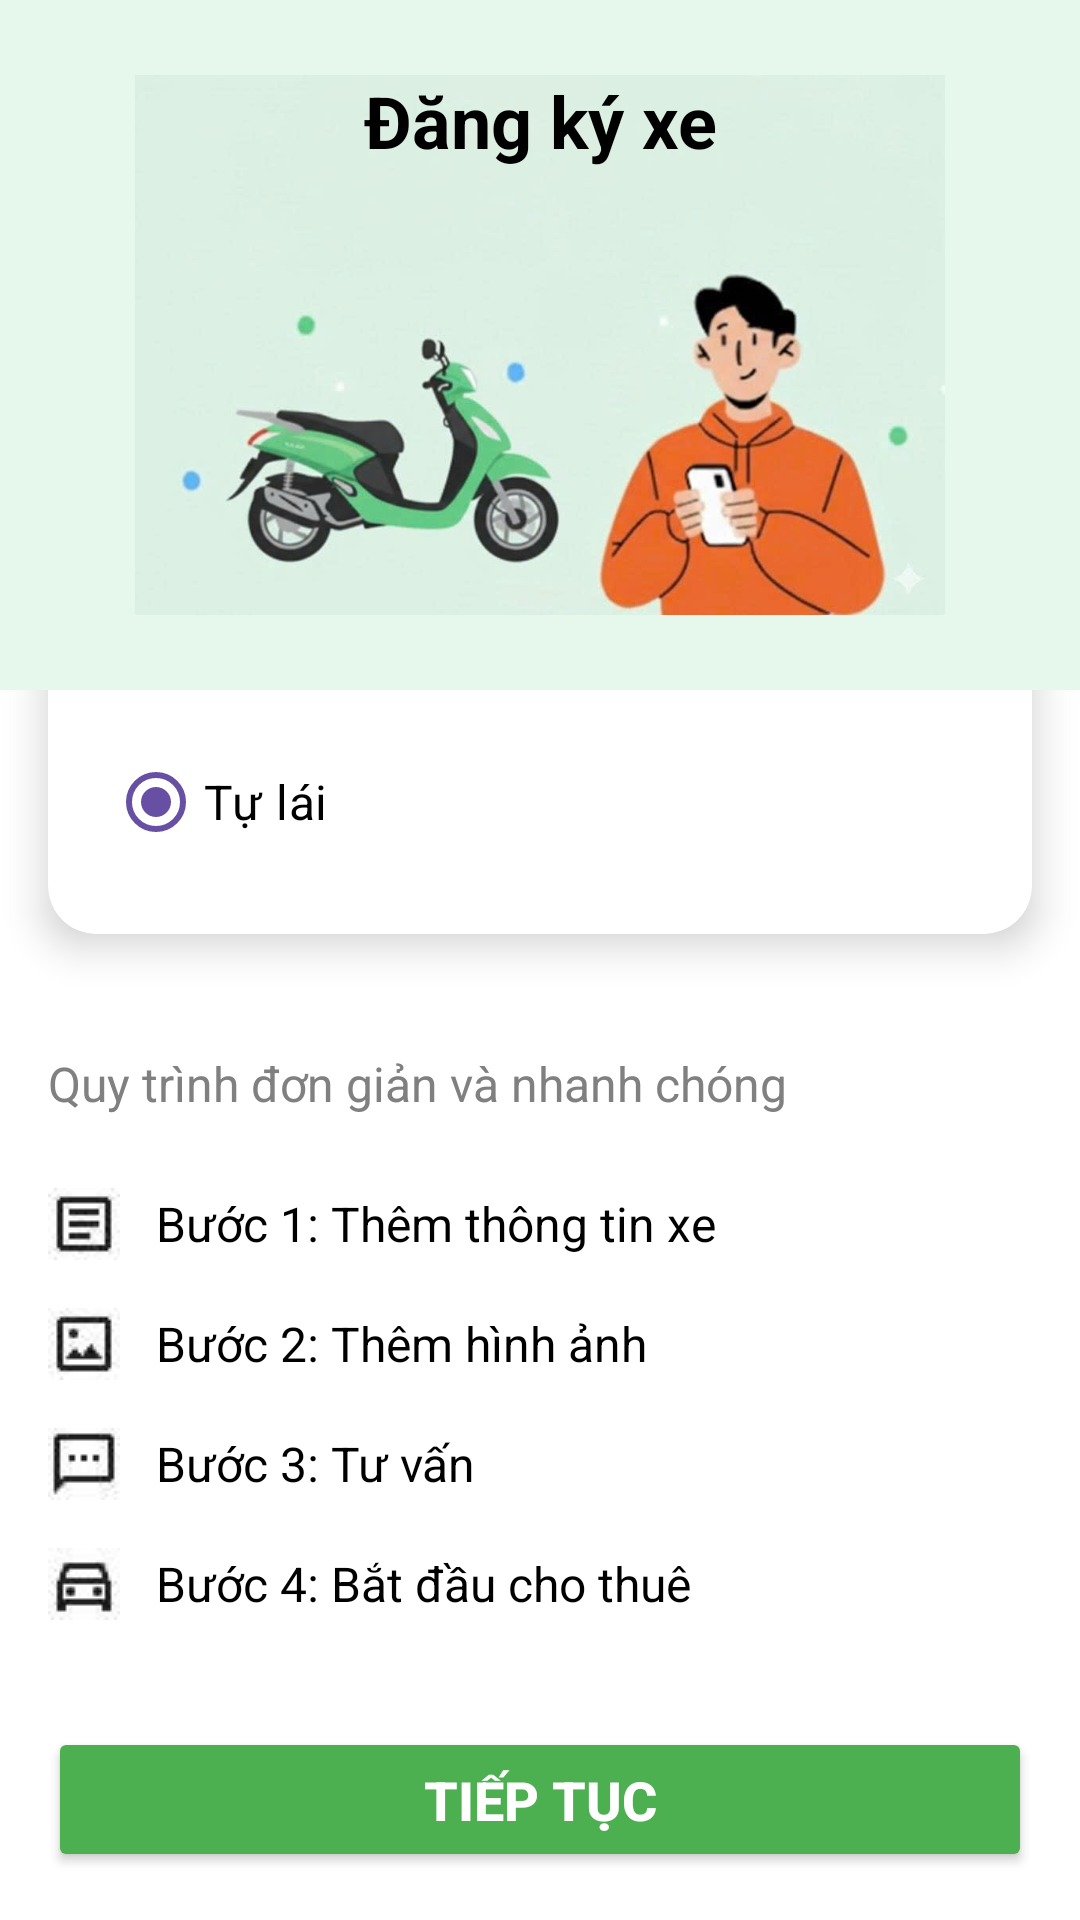

Named icons in this screenshot (1080 × 1920) and their bounding boxes, (x1, y1, x2, y2):
images: (48, 1316, 112, 1372)
nhantin: (53, 1433, 115, 1495)
thongtin: (55, 1196, 113, 1252)
